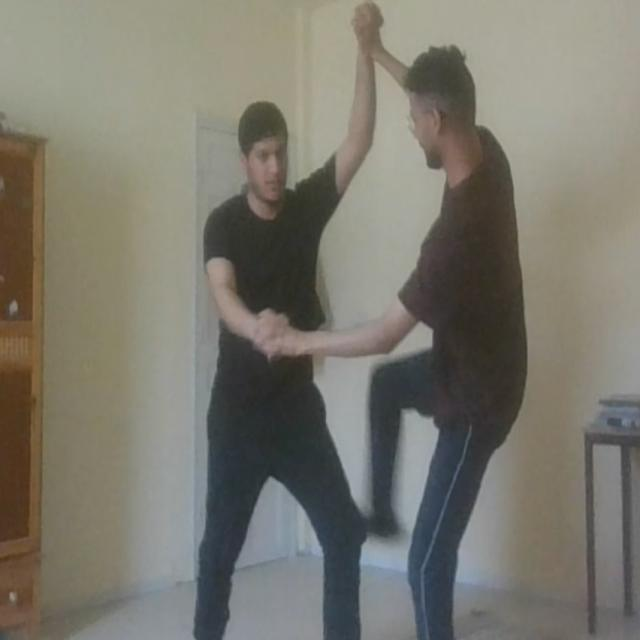violence: (198, 14, 530, 640), (207, 10, 500, 588)
